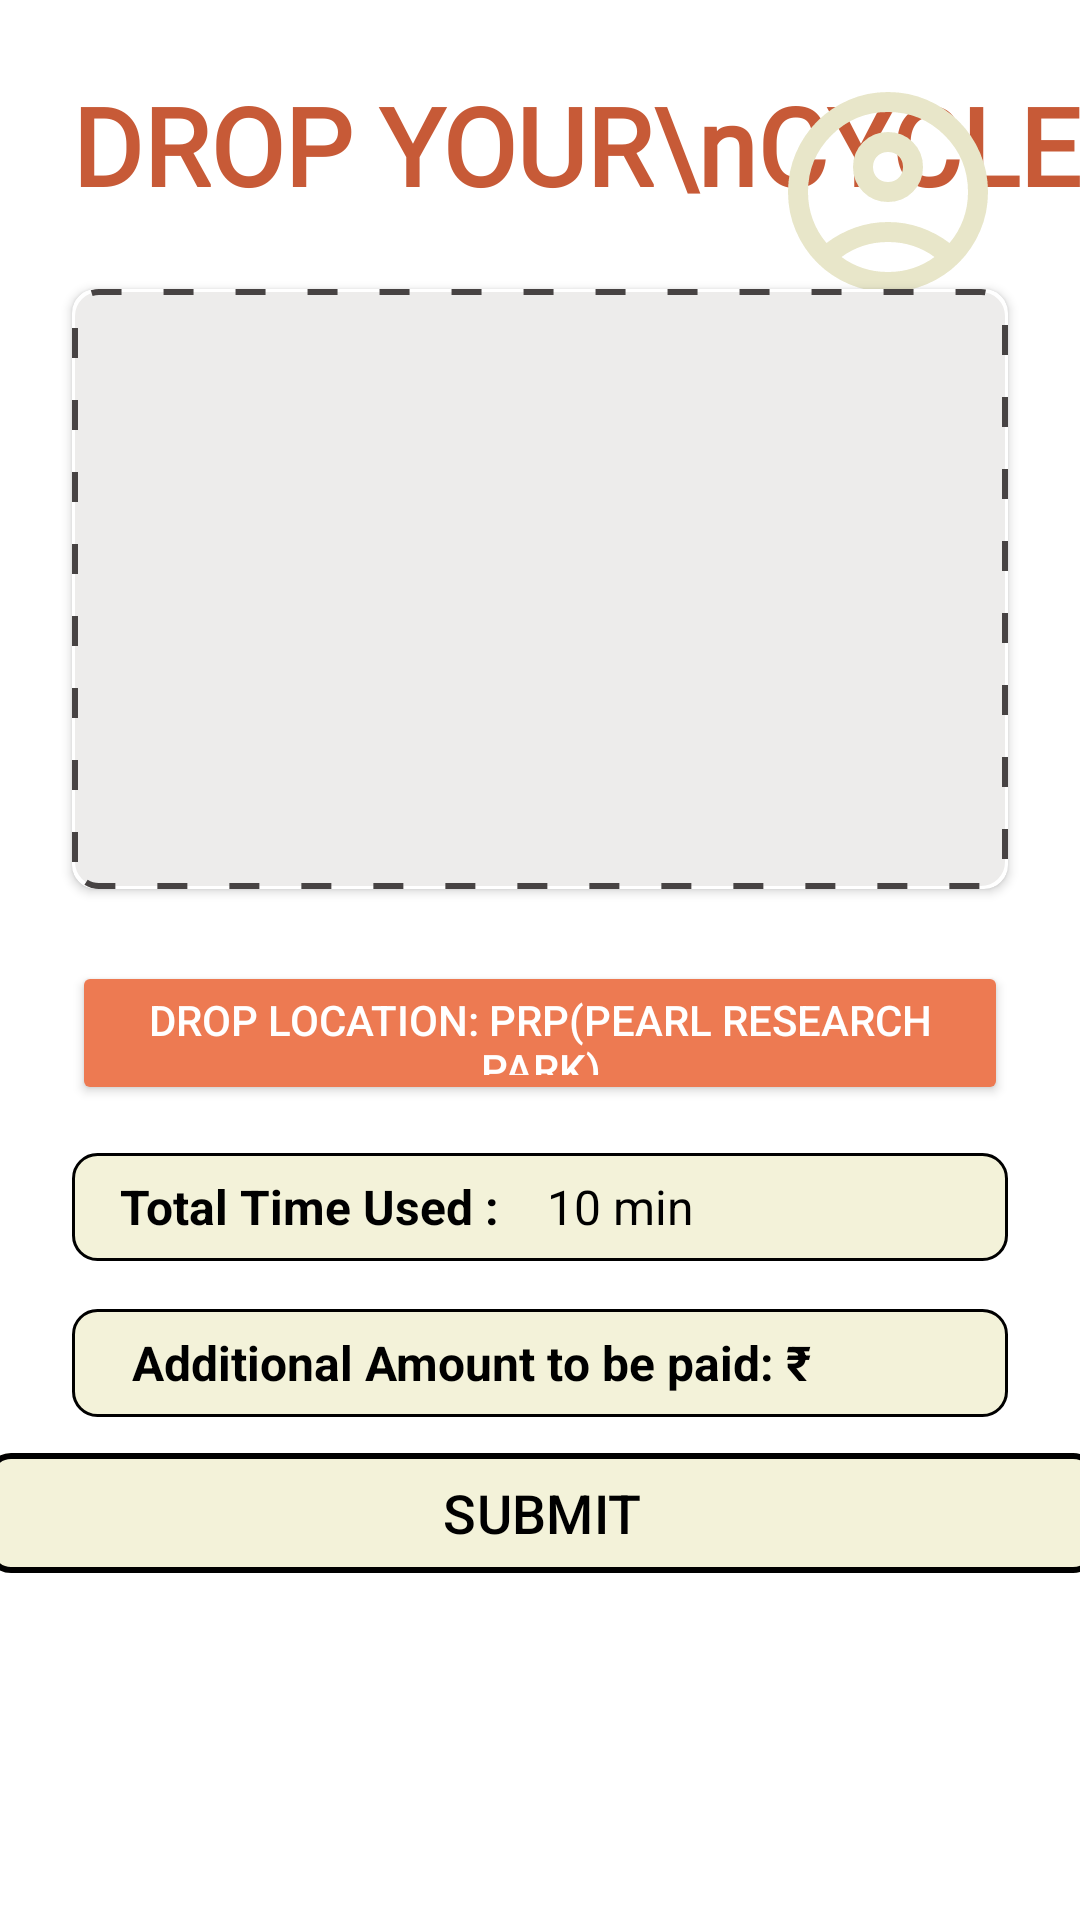

Icons on this 1080px x 1920px Android screen, each with its box as bbox=[x1, y1, x2, y2]:
account: bbox=[768, 92, 1008, 307]
